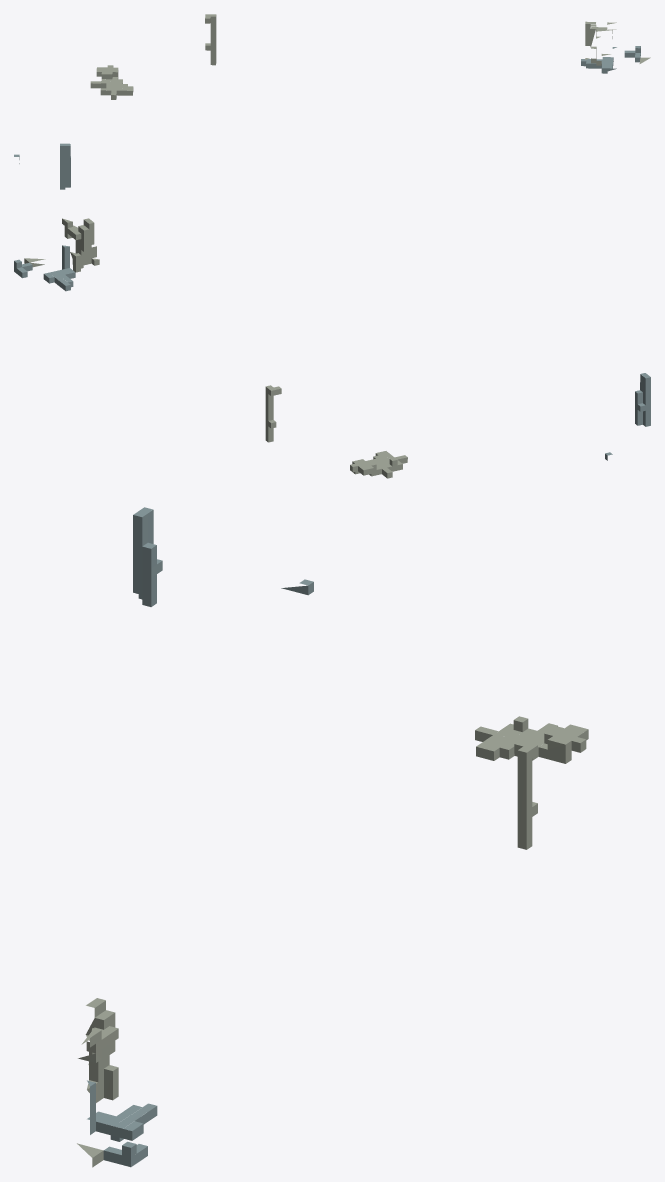
The picture shows the model from 3 angles, top to bottom: view 1: azimuth 30°, elevation 25°; view 2: azimuth 150°, elevation 25°; view 3: azimuth 270°, elevation 25°; orthographic projection. The views are drawn at different scales.
Parts seen in each view (by area): view 1: measured-industrial; view 2: measured-industrial; view 3: measured-industrial.
Part boxes in pixels (<box>): measured-industrial: <box>14,14,650,189</box>; measured-industrial: <box>14,218,650,478</box>; measured-industrial: <box>77,507,588,1167</box>.
Size of the model in its own units: 126 by 12 by 47.74.
